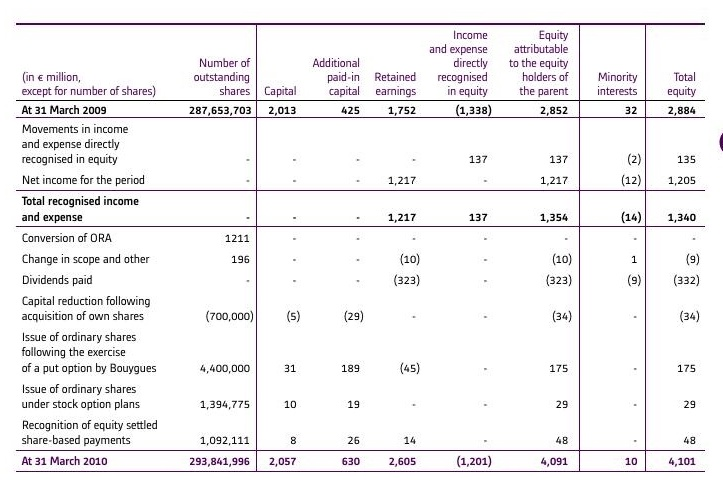table: (0, 0, 723, 487)
